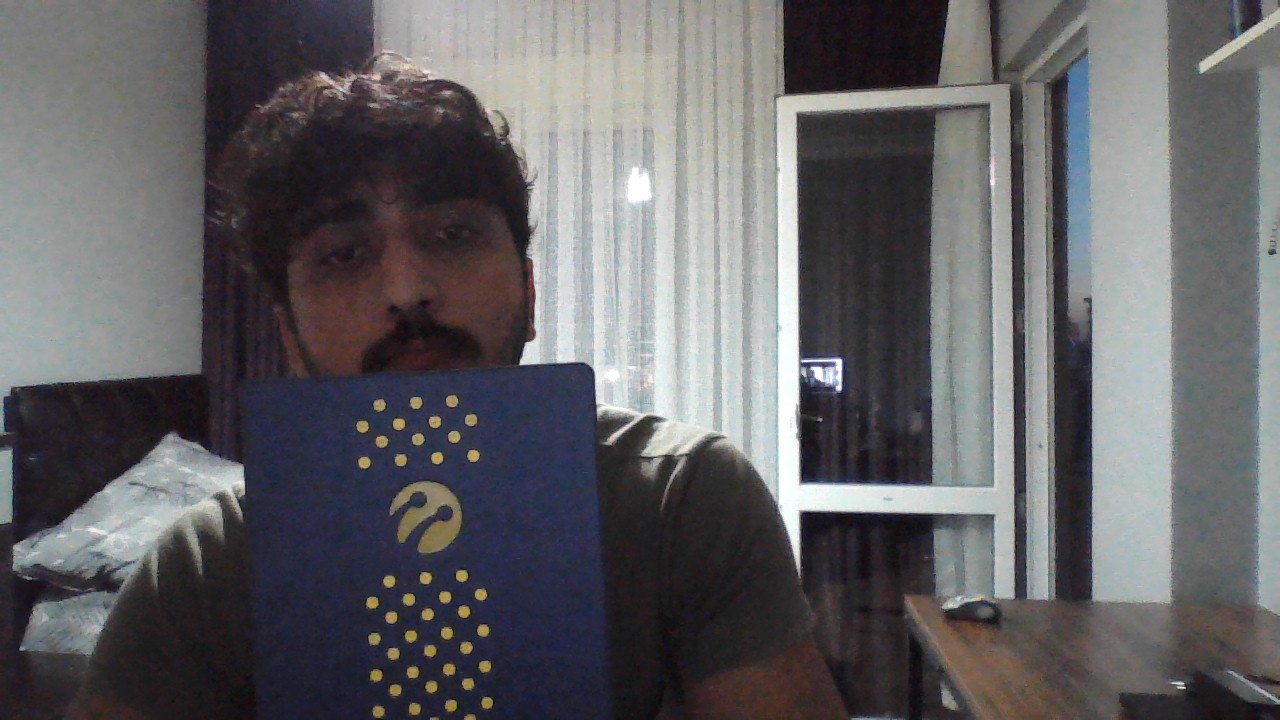turkcell: (383, 481, 471, 556)
